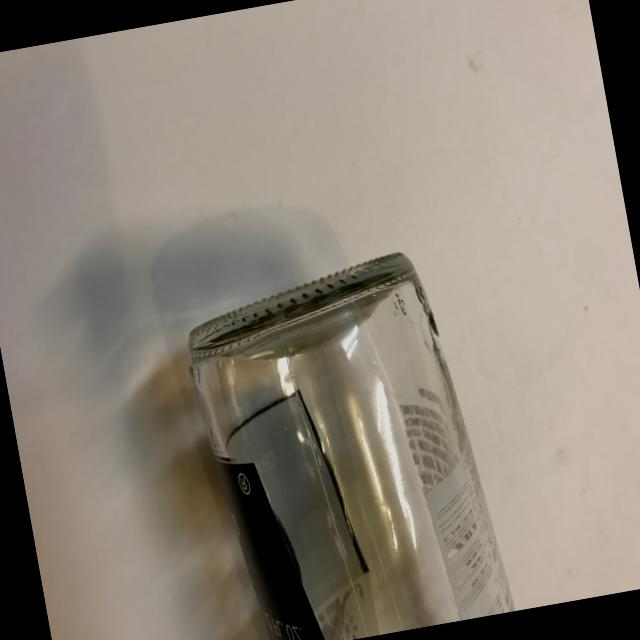Glass: (167, 231, 523, 640)
